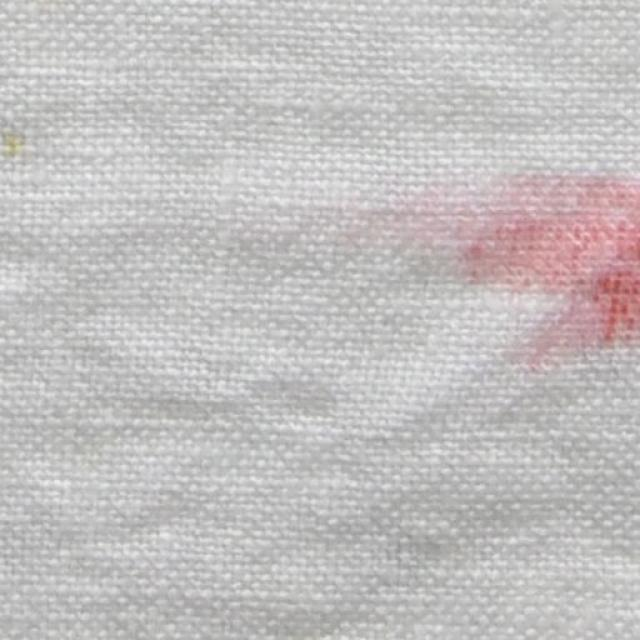Stain: (345, 175, 640, 369), (0, 104, 35, 161)
